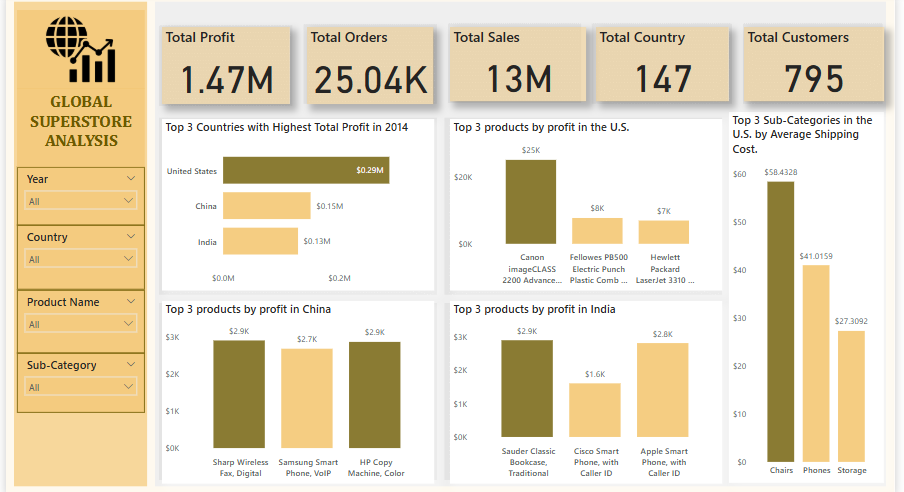

The page's visual inventory and layout, read from the dashboard file:
{"tool":"powerbi","page":{"name":"Page 1","canvas":[1280,720],"ordinal":0},"visuals":[{"type":"barChart","title":"Top 3 Countries with Highest Total Profit in 2014","fields":{"Category":["Orders.Country"],"Y":["Sum(Orders.Profit)"]},"box":[225.3,177,391.5,246.7],"z":0},{"type":"columnChart","title":"Top 3 products by profit in the U.S.","fields":{"Category":["Orders.Product Name"],"Y":["Sum(Orders.Profit)"]},"box":[640,177,391.5,246.7],"z":1000},{"type":"clusteredColumnChart","title":"Top 3 products by profit in China","fields":{"Category":["Orders.Product Name"],"Y":["Sum(Orders.Profit)"]},"box":[225.3,439.8,391.5,262.8],"z":2000},{"type":"clusteredColumnChart","title":"Top 3 products by profit in India","fields":{"Category":["Orders.Product Name"],"Y":["Sum(Orders.Profit)"]},"box":[640,439.8,391.5,262.8],"z":3000},{"type":"clusteredColumnChart","title":"Top 3 Sub-Categories in the U.S. by Average Shipping Cost.","fields":{"Category":["Orders.Sub-Category"],"Y":["Avg(Orders.Shipping Cost)"]},"box":[1041.1,167,223.2,534.2],"z":4000},{"type":"card","title":"Total Profit","fields":{"Values":["Sum(Orders.Profit)"]},"box":[225,44.6,183.9,110.7],"z":5000},{"type":"card","title":"Total Orders","fields":{"Values":["Count(Orders.Order ID)"]},"box":[433.9,44.6,182.1,110.7],"z":6000},{"type":"card","title":"Total Sales","fields":{"Values":["Sum(Orders.Sales)"]},"box":[639.3,44.6,196.4,107.1],"z":7000},{"type":"card","title":"Total Country","fields":{"Values":["Count(Orders.Country)"]},"box":[850,44.6,191.1,107.1],"z":8000},{"type":"card","title":"Total Customers","fields":{"Values":["Count(Orders.Customer Name)"]},"box":[1062.5,44.6,201.8,107.1],"z":9000},{"type":"slicer","fields":{"Values":["DateTable.Year"]},"box":[16.1,246.4,183.9,83.9],"z":10000},{"type":"slicer","fields":{"Values":["Orders.Country"]},"box":[16.1,330.4,183.9,92.9],"z":11000},{"type":"slicer","fields":{"Values":["Orders.Product Name"]},"box":[16.1,423.2,183.9,91.1],"z":12000},{"type":"slicer","fields":{"Values":["Orders.Sub-Category"]},"box":[16.1,514.3,183.9,85.7],"z":13000},{"type":"textbox","box":[16.1,132.1,183.9,114.3],"z":14000},{"type":"image","box":[16.1,19.6,183.9,112.5],"z":15000}]}

Visuals, with their boxes on the page's 1280x720 design canvas (x1, y1, x2, y2). These are canvas units, not pixel positions in the 904x492 screenshot, which may show the page scaled, cropped or inside an application window:
"Top 3 Countries with Highest Total Profit in 2014" barChart: 225, 177, 617, 424
"Top 3 products by profit in the U.S." columnChart: 640, 177, 1032, 424
"Top 3 products by profit in China" clusteredColumnChart: 225, 440, 617, 703
"Top 3 products by profit in India" clusteredColumnChart: 640, 440, 1032, 703
"Top 3 Sub-Categories in the U.S. by Average Shipping Cost." clusteredColumnChart: 1041, 167, 1264, 701
"Total Profit" card: 225, 45, 409, 155
"Total Orders" card: 434, 45, 616, 155
"Total Sales" card: 639, 45, 836, 152
"Total Country" card: 850, 45, 1041, 152
"Total Customers" card: 1062, 45, 1264, 152
slicer - DateTable.Year: 16, 246, 200, 330
slicer - Orders.Country: 16, 330, 200, 423
slicer - Orders.Product Name: 16, 423, 200, 514
slicer - Orders.Sub-Category: 16, 514, 200, 600
textbox: 16, 132, 200, 246
image: 16, 20, 200, 132
